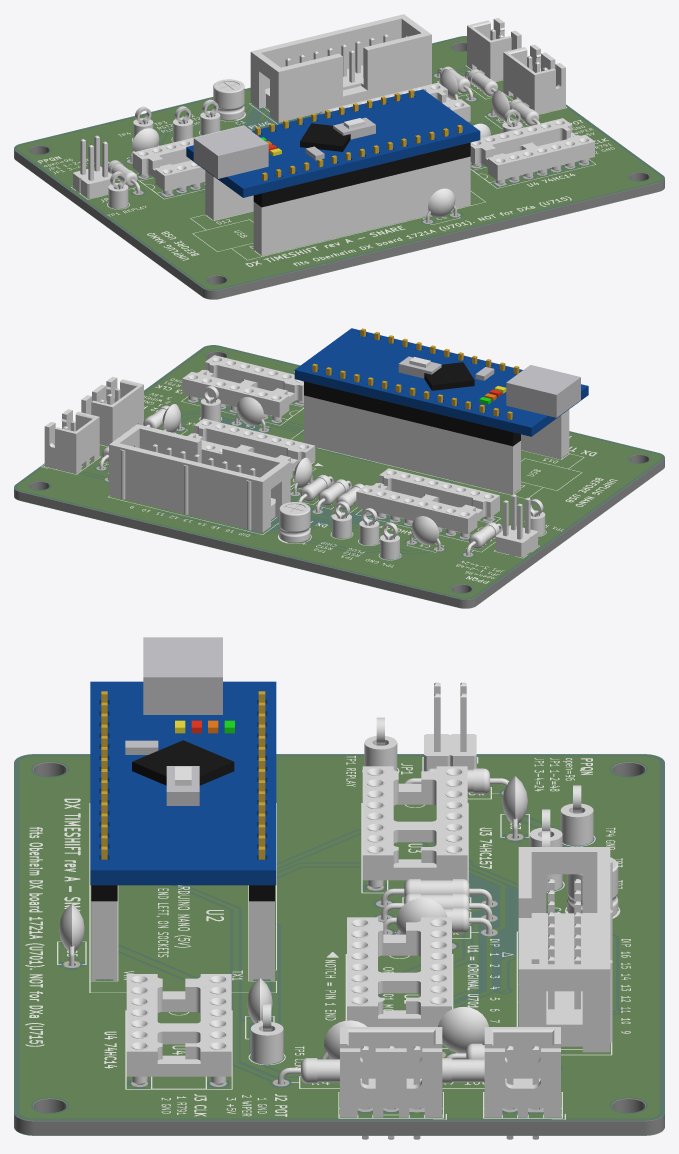
Rendered from board.glb.
3 views of the same model, one above another, from view 1: azimuth 30°, elevation 25°; view 2: azimuth 150°, elevation 25°; view 3: azimuth 270°, elevation 25° (orthographic). The views are drawn at different scales.
Parts seen in each view (by area): view 1: =>[0:1:1:19], =>[0:1:1:14], J1, U2 (×2), pcb, =>[0:1:1:21], U4, =>[0:1:1:17], J2, spacer_15, usb_miniB, U3 (+18 smaller); view 2: =>[0:1:1:19], =>[0:1:1:14], J1, U2 (×2), pcb, =>[0:1:1:21], U3, U4, U1, spacer_0, =>[0:1:1:17], usb_miniB (+21 smaller); view 3: =>[0:1:1:19], =>[0:1:1:14], pcb, =>[0:1:1:21], J1, =>[0:1:1:17], U3, U4, U1, J2, J3, usb_miniB (+21 smaller).
Boxes of the visible parts, <box> form: =>[0:1:1:19]: <box>14,36,664,290</box>; =>[0:1:1:14]: <box>18,38,660,288</box>; J1: <box>250,14,431,122</box>; U2 (×2): <box>205,156,470,255</box>; pcb: <box>186,89,480,197</box>; =>[0:1:1:21]: <box>14,37,664,299</box>; U4: <box>470,118,594,184</box>; =>[0:1:1:17]: <box>37,65,614,266</box>; J2: <box>503,44,565,114</box>; spacer_15: <box>253,142,470,207</box>; usb_miniB: <box>193,126,268,178</box>; U3: <box>132,125,251,195</box>; =>[0:1:1:19]: <box>14,345,664,599</box>; =>[0:1:1:14]: <box>18,347,660,597</box>; J1: <box>109,424,290,532</box>; U2 (×2): <box>304,395,569,494</box>; pcb: <box>294,328,588,436</box>; =>[0:1:1:21]: <box>14,346,664,608</box>; U3: <box>356,468,499,538</box>; U4: <box>182,355,303,421</box>; U1: <box>187,418,315,478</box>; spacer_0: <box>304,381,520,446</box>; =>[0:1:1:17]: <box>41,371,617,583</box>; usb_miniB: <box>506,365,580,417</box>; =>[0:1:1:19]: <box>14,754,664,1120</box>; =>[0:1:1:14]: <box>20,757,658,1118</box>; pcb: <box>90,681,276,885</box>; =>[0:1:1:21]: <box>14,755,664,1135</box>; J1: <box>518,847,612,1052</box>; =>[0:1:1:17]: <box>25,755,630,1119</box>; U3: <box>362,766,467,888</box>; U4: <box>126,974,231,1085</box>; U1: <box>347,917,451,1026</box>; J2: <box>340,1027,442,1139</box>; J3: <box>484,1027,560,1139</box>; usb_miniB: <box>143,637,222,714</box>.
Size of the model in its own units: 0.084 by 0.0204 by 0.063.
